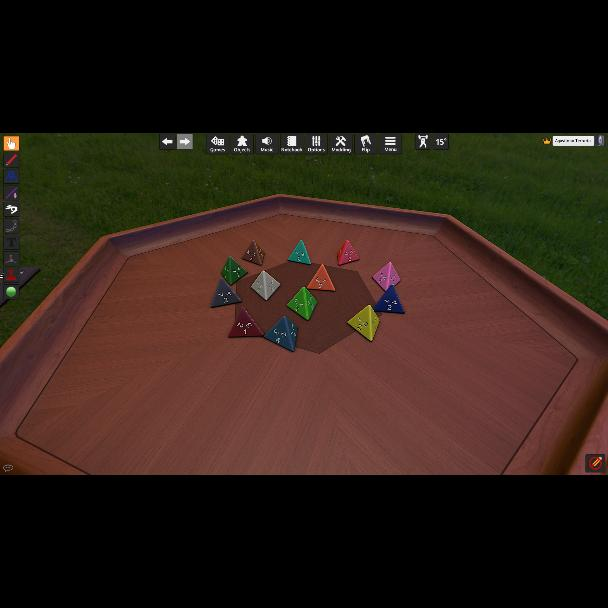d4: (264, 316, 298, 352), (348, 304, 378, 342), (228, 308, 266, 338), (250, 270, 282, 302), (286, 286, 316, 320), (211, 278, 243, 308), (372, 285, 404, 315), (372, 262, 400, 292), (221, 256, 247, 286), (306, 264, 333, 292), (288, 240, 310, 266), (242, 241, 264, 267), (337, 240, 358, 266)
